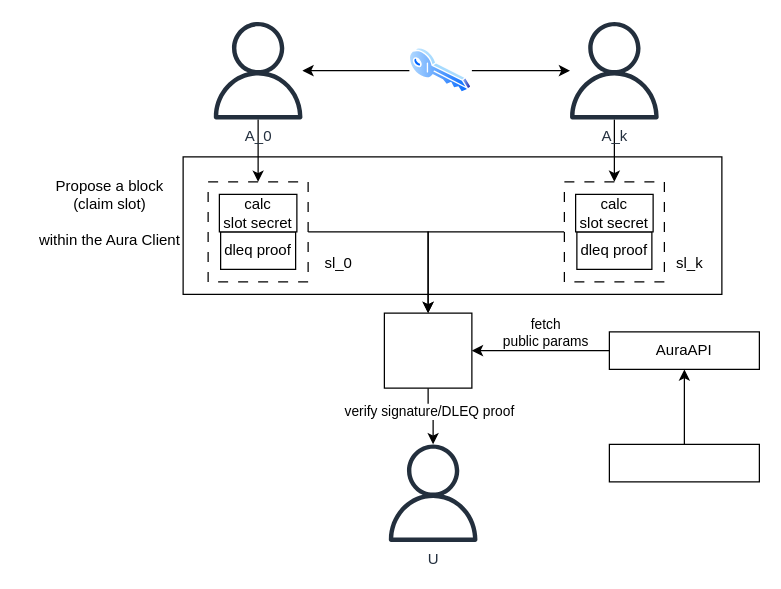
This 781x589 diagram has some shape labels left out. Each missing label, with the centre of its shape:
block import: pixel 427 350
EtF Pallet: pixel 683 462
IBE master key: pixel 440 70
